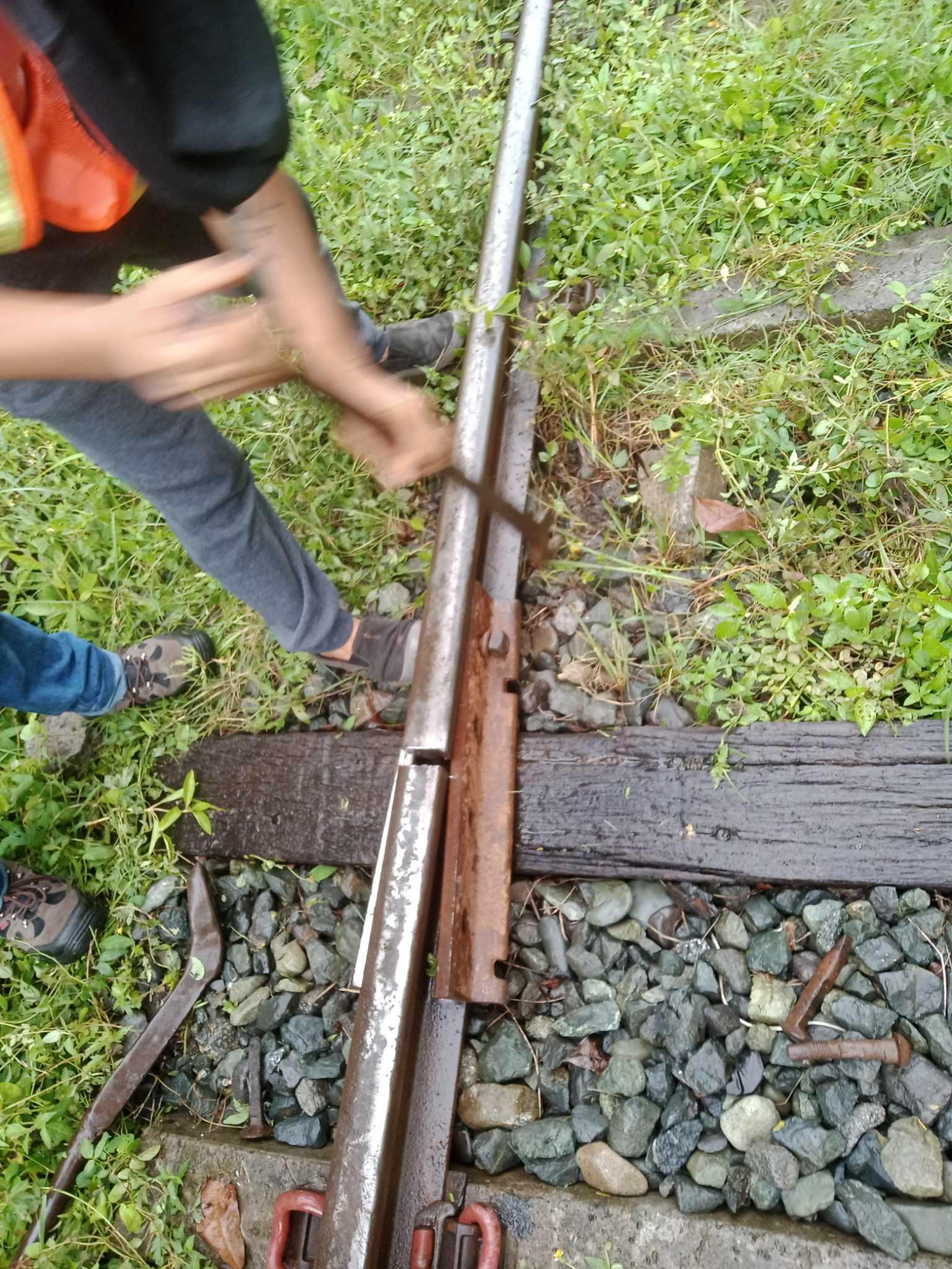railway-gap: (372, 712, 485, 809)
